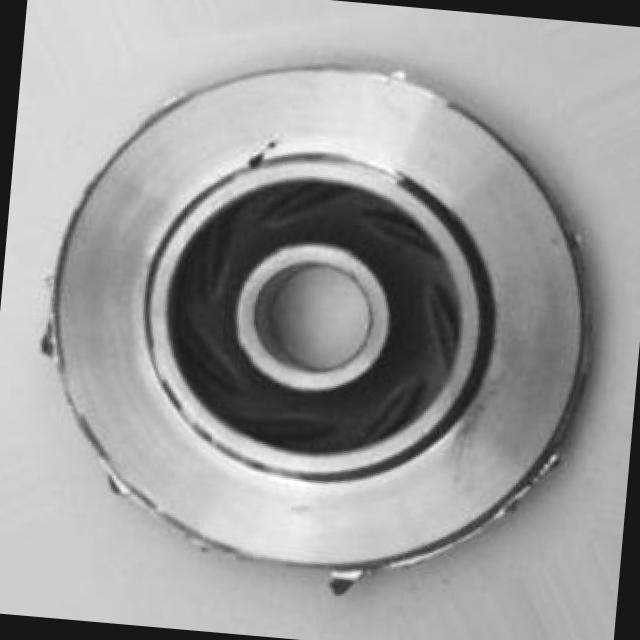Defect: (236, 136, 272, 178)
